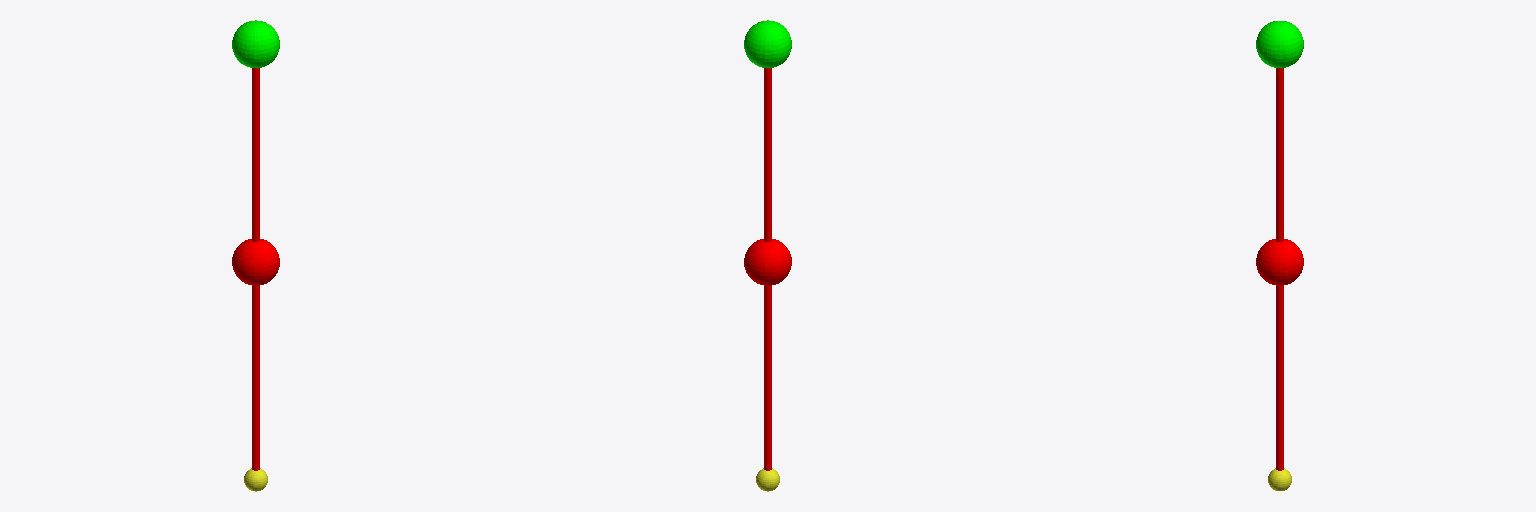
The robot description file, URDF, robot "Compass":
<?xml version="1.0"?>
<robot name="Compass">
  
  <link name="floor">
    <!-- <visual>
      <origin xyz="0 0 -0.05"/>
      <geometry>
        <box size="2.2 2.2 0.1"/>
      </geometry>
    </visual> -->
    <collision>
      <origin xyz="0 0 -0.05"/>
      <geometry>
        <box size="2.2 2.2 0.1"/>
      </geometry>
    </collision>
    <collision>
      <geometry>
        <plane normal="0 0 1"/>
      </geometry>
    </collision>
  </link>
  
  <link name="hip">
    <inertial>
      <mass value="10."/>
      <inertia ixx="1e-6" ixy="0." ixz="0." iyy="1e-6" iyz="0." izz="1e-6"/>
    </inertial> 
    <visual>
      <geometry>
        <sphere radius="0.05"/>
      </geometry>
      <material name="green">
        <color rgba="0 1 0 1"/>
      </material>
    </visual>
  </link>
  <joint name="floating_base" type="planar">
    <parent link="floor"/>
    <child link="hip"/>
    <axis xyz="0 1 0"/>
  </joint>
  
  <link name="left_leg">
    <inertial>
      <mass value="1e-5"/>
      <inertia ixx="1e-6" ixy="0." ixz="0." iyy="1e-6" iyz="0." izz="1e-6"/>
    </inertial>
    <visual>
      <origin xyz="0 0 -0.5"/>
      <geometry>
        <cylinder length="1.0" radius="0.0075"/>
      </geometry>
      <material name="red">
        <color rgba="1 0 0 1"/>
      </material>
    </visual>
    <visual>
      <origin xyz="0 0 -1.0"/>
      <geometry>
        <sphere radius=".025"/>
      </geometry>
      <material name="yellow">
        <color rgba=".9 .9 .2 1."/>
      </material>
    </visual>
    <collision>
      <origin xyz="0 0 -1.0"/>
      <geometry>
        <sphere radius="0"/>
      </geometry>
    </collision>
  </link>
  
  <link name="right_leg">
    <inertial>
      <mass value="1e-5"/>
      <inertia ixx="1e-6" ixy="0." ixz="0." iyy="1e-6" iyz="0." izz="1e-6"/>
    </inertial>
    <visual>
      <origin xyz="0 0 -0.5"/>
      <geometry>
        <cylinder length="1.0" radius="0.0075"/>
      </geometry>
      <material name="blue">
        <color rgba="0 0 1 1"/>
      </material>
    </visual>
    <visual>
      <origin xyz="0 0 -1.0"/>
      <geometry>
        <sphere radius=".025"/>
      </geometry>
      <material name="yellow">
        <color rgba=".9 .9 .2 1."/>
      </material>
    </visual>
    <collision>
      <origin xyz="0 0 -1.0"/>
      <geometry>
        <sphere radius="0"/>
      </geometry>
    </collision>
  </link>
  
  <joint name="left_leg_weld" type="fixed">
    <parent link="hip"/>
    <child link="left_leg"/>
  </joint>
  
  <joint name="hip_pin" type="revolute">
    <parent link="hip"/>
    <child link="right_leg"/>
    <axis xyz="0 1 0"/>
  </joint>
  
  <link name="left_leg_mass">
  <visual>
    <origin xyz="0 0 -0.5"/>
    <geometry>
      <sphere radius="0.05"/>
    </geometry>
    <material name="red">
      <color rgba="1 0 0 1"/>
    </material>
  </visual>
  <inertial>
    <origin xyz="0 0 -0.5"/>
    <mass value="5"/>
    <inertia ixx="1e-6" ixy="0." ixz="0." iyy="1e-6" iyz="0." izz="1e-6"/>
  </inertial>
  </link>
  <joint name="left_leg_mass_weld" type="fixed">
    <parent link="left_leg"/>
    <child link="left_leg_mass"/>
  </joint>
  <link name="right_leg_mass">
    <visual>
      <origin xyz="0 0 -0.5"/>
      <geometry>
        <sphere radius="0.05"/>
      </geometry>
      <material name="red">
        <color rgba="0 0 1 1"/>
      </material>
    </visual>
    <inertial>
      <origin xyz="0 0 -0.5"/>
      <mass value="5"/>
      <inertia ixx="1e-6" ixy="0." ixz="0." iyy="1e-6" iyz="0." izz="1e-6"/>
    </inertial>
  </link>
  <joint name="right_leg_mass_weld" type="fixed">
    <parent link="right_leg"/>
    <child link="right_leg_mass"/>
  </joint>
  
</robot>

--- Facts derived from the render (not from the file) ---
The picture shows the robot from 3 angles, left to right: view 1: azimuth 30°, elevation 25°; view 2: azimuth 150°, elevation 25°; view 3: azimuth 270°, elevation 25°; orthographic projection.
Model Compass with 6 links and 5 joints (1 revolute, 3 fixed, 1 planar), rooted at floor, posed every joint at zero.
Links seen in each view (by area): view 1: left_leg, hip, left_leg_mass; view 2: left_leg, hip, left_leg_mass; view 3: left_leg, hip, left_leg_mass.
Boxes of the visible links, x1,y1,x2,y2 form: left_leg: (244,68,267,491); hip: (232,20,279,67); left_leg_mass: (232,239,279,285); left_leg: (756,68,779,491); hip: (744,20,791,67); left_leg_mass: (744,239,791,285); left_leg: (1268,68,1291,490); hip: (1256,21,1303,67); left_leg_mass: (1256,239,1303,285).
Size in the robot's own frame: 0.1 by 0.1 by 1.07 metres.
Geometry: primitives only (box / cylinder / sphere), no mesh files.
